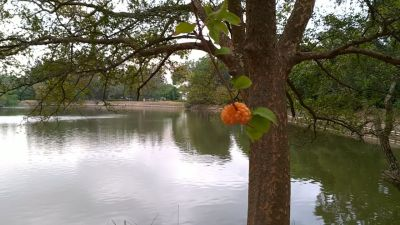eggs: (221, 102, 252, 126)
